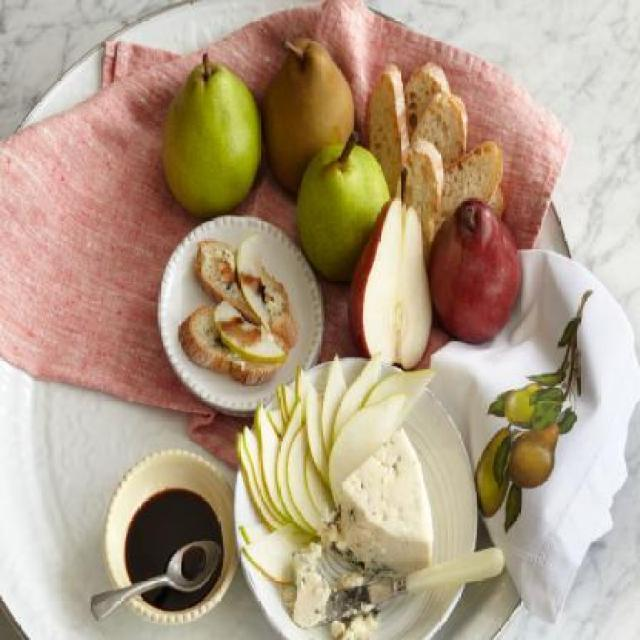Pear: (260, 38, 356, 200), (165, 62, 266, 213), (346, 198, 431, 371), (426, 193, 522, 344), (296, 142, 390, 284)
